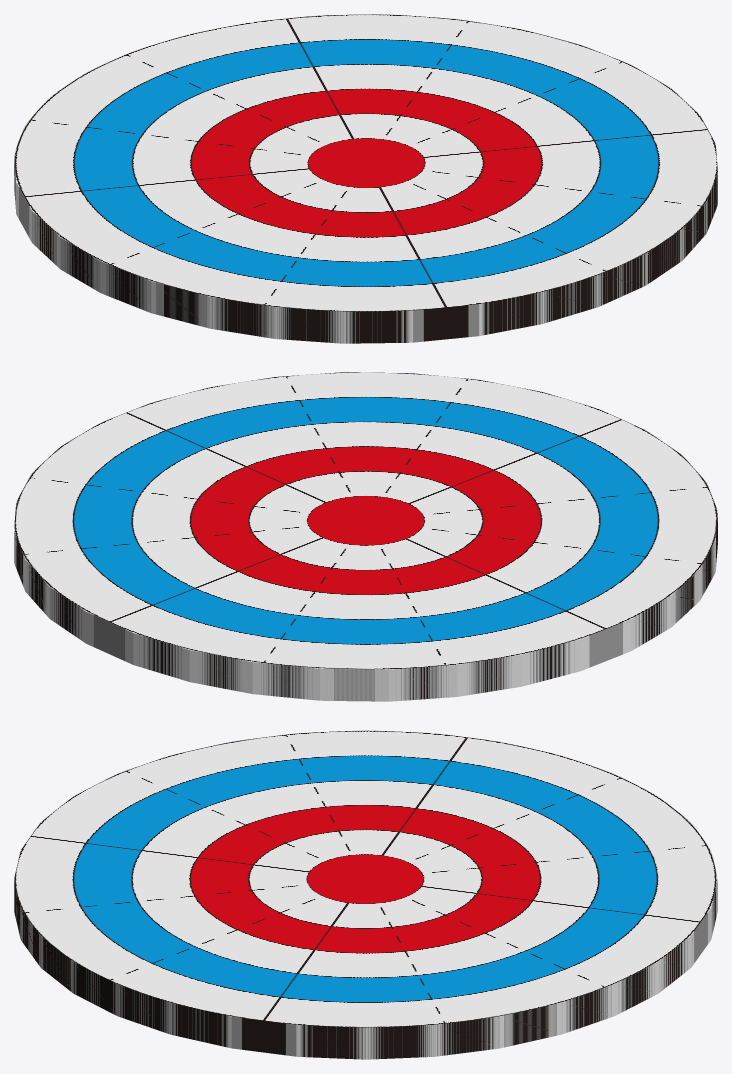
The model's file is Target.glb.
3 renders of one model, top to bottom at view 1: azimuth 30°, elevation 25°; view 2: azimuth 150°, elevation 25°; view 3: azimuth 270°, elevation 25°, orthographic.
Parts seen in each view (by area): view 1: 圆环; view 2: 圆环; view 3: 圆环.
Part boxes in pixels (<box>): 圆环: <box>14,14,717,343</box>; 圆环: <box>14,372,717,701</box>; 圆环: <box>14,730,717,1059</box>.
Bounding box in the file's own units: 1 × 0.05 × 1.
1 material, 1 textured.
